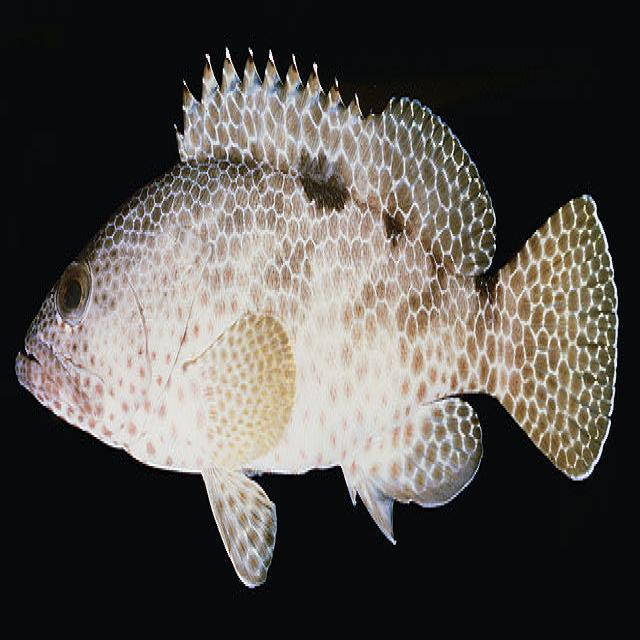ikan: (14, 42, 619, 590)
